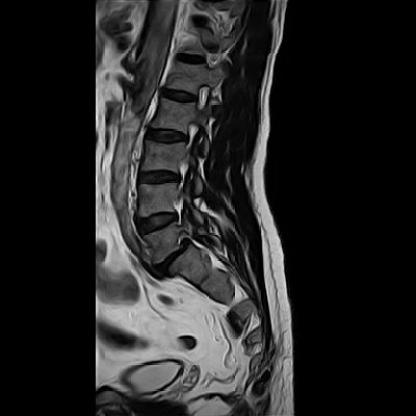Disc Bulgerotation: (134, 209, 179, 235), (147, 248, 200, 268), (135, 169, 182, 188)
